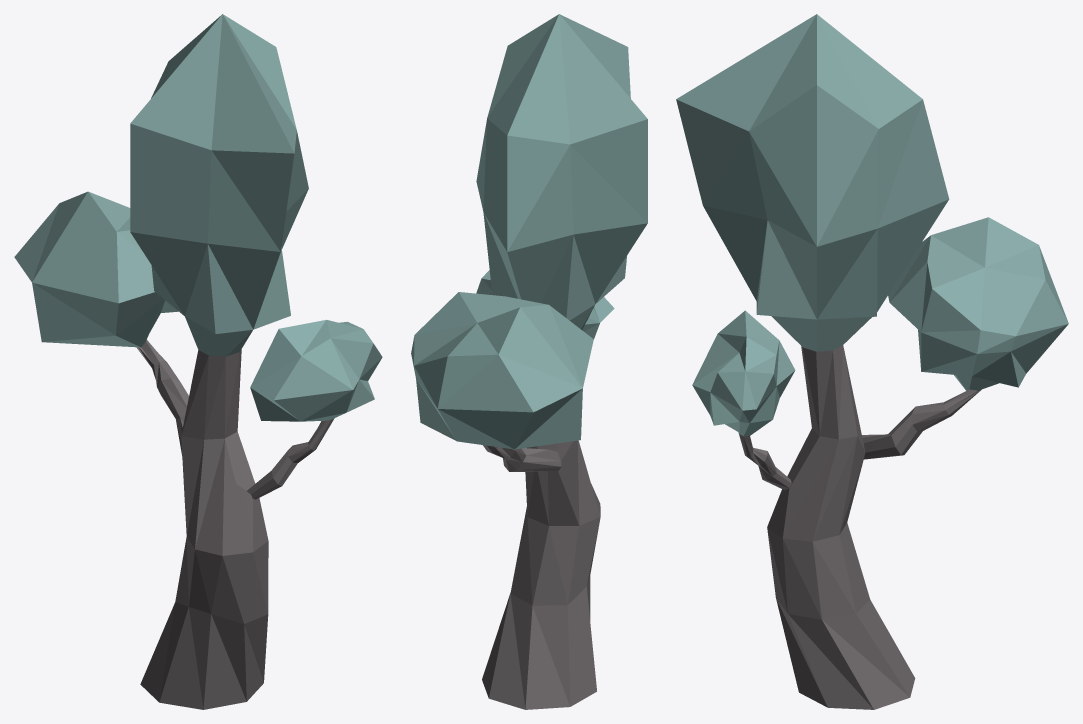
The model's file is tree01NEW.fbx.
3 views of the same model, side by side, from view 1: azimuth 30°, elevation 25°; view 2: azimuth 150°, elevation 25°; view 3: azimuth 270°, elevation 25° (orthographic). The views are drawn at different scales.
Visible parts, largest first — view 1: pCube15; view 2: pCube15; view 3: pCube15.
Part boxes in pixels (bbox=[...]): pCube15: bbox=[14, 14, 382, 709]; pCube15: bbox=[411, 14, 647, 709]; pCube15: bbox=[676, 14, 1068, 709].
Bounding box in the file's own units: 0.0304 × 0.0866 × 0.0459.
